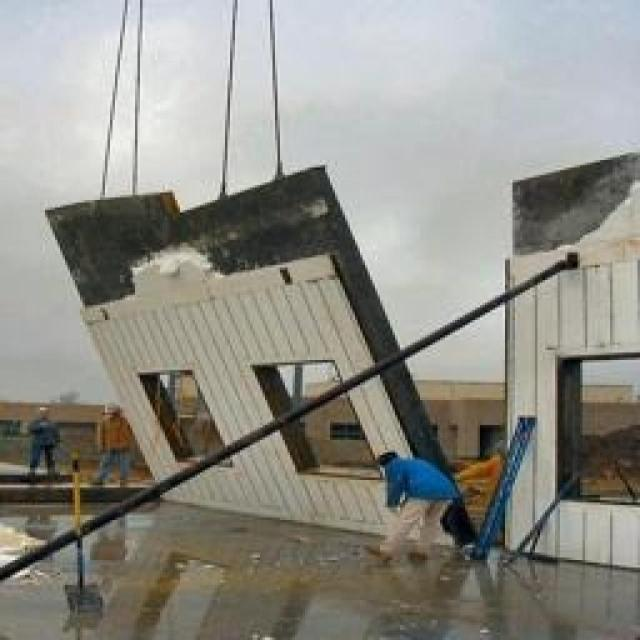Helmet: (386, 457, 460, 517), (18, 420, 72, 481), (93, 415, 139, 464), (96, 398, 130, 428), (374, 444, 404, 476), (29, 401, 57, 435)
